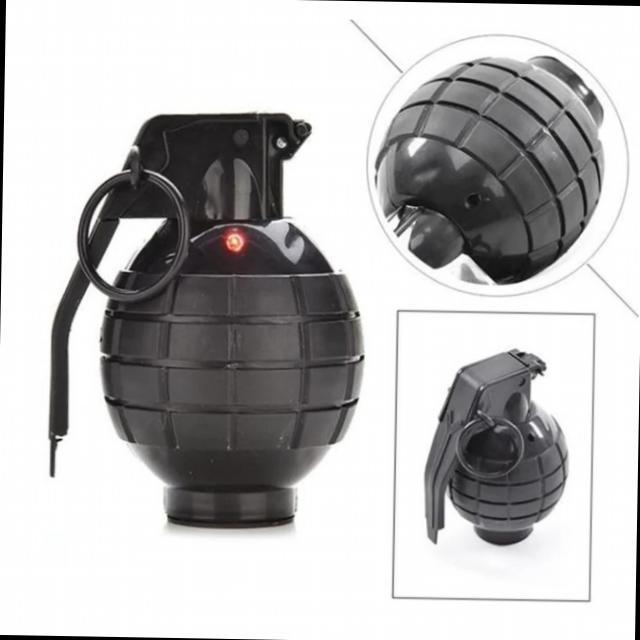grenade: (34, 96, 370, 536)
